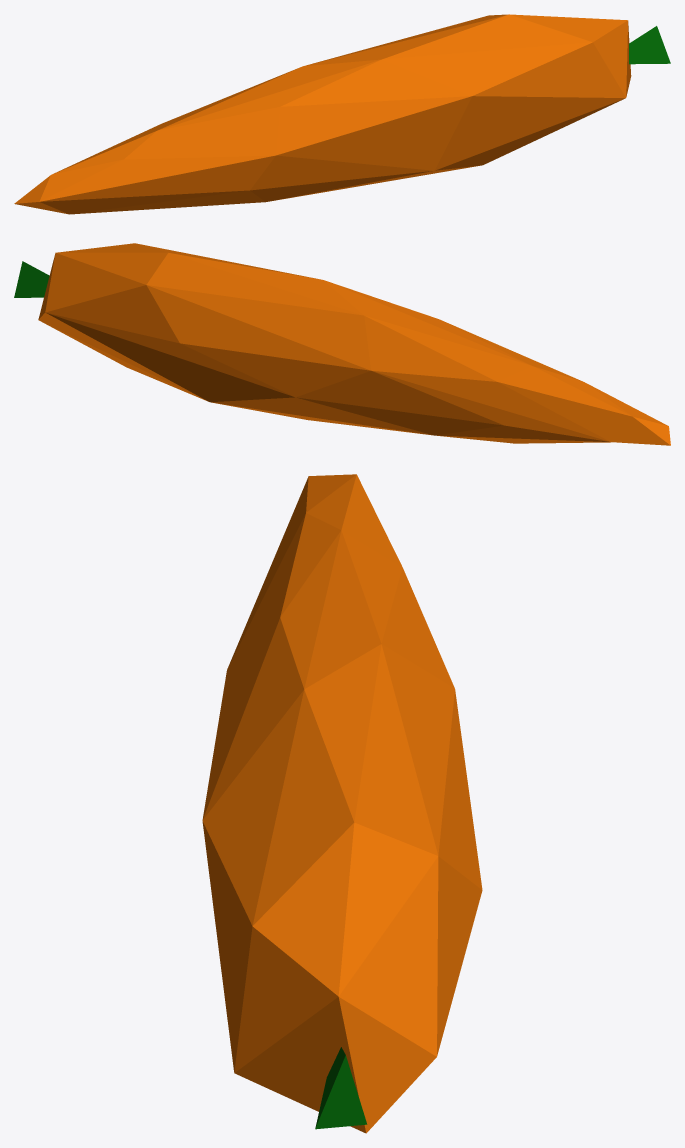
File: carrot.fbx
3 views of the same model, one above another, from view 1: azimuth 30°, elevation 25°; view 2: azimuth 150°, elevation 25°; view 3: azimuth 270°, elevation 25° (orthographic). The views are drawn at different scales.
Parts seen in each view (by area): view 1: Корень, Ботва; view 2: Корень, Ботва; view 3: Корень, Ботва.
Part boxes in pixels (x1,y1,x2,y2): Корень: (14,14,631,214); Ботва: (629,26,670,64); Корень: (38,243,670,445); Ботва: (14,261,49,297); Корень: (202,474,482,1133); Ботва: (315,1047,367,1129).
Bounding box in the file's own units: 31.67 × 6.07 × 5.94.
